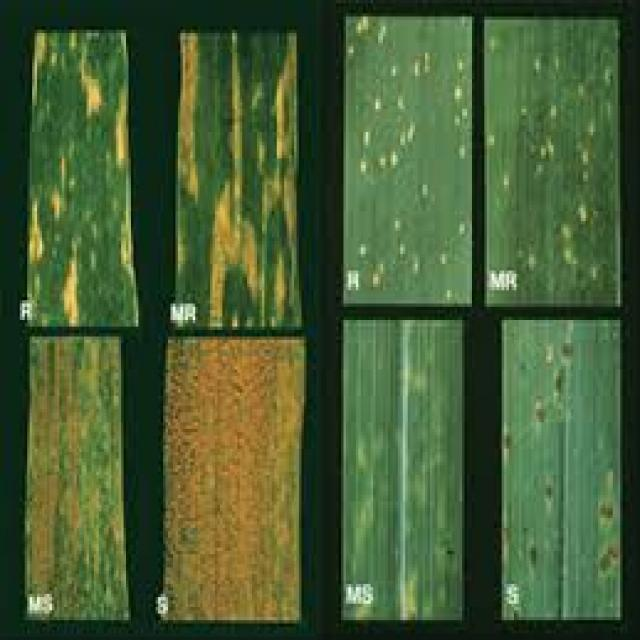leaf rust: (165, 336, 304, 634), (30, 334, 124, 600)
